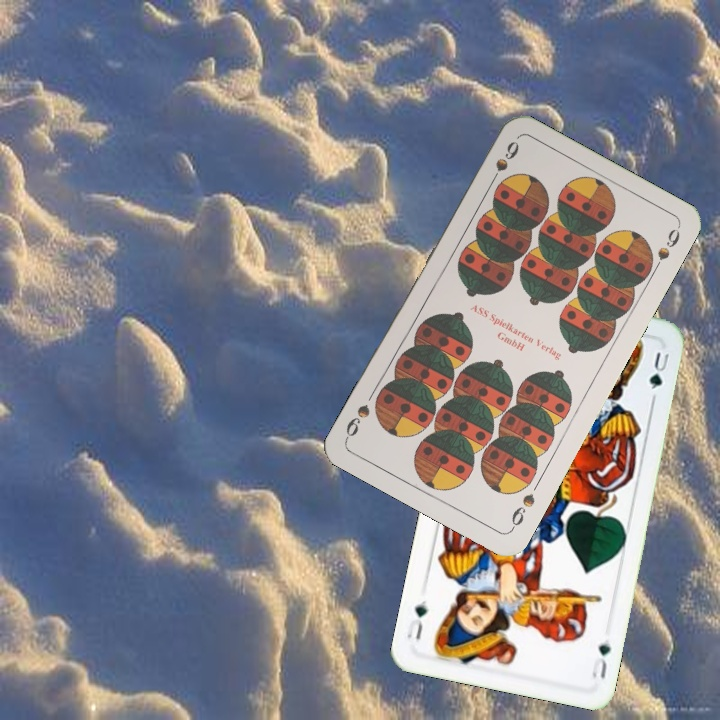GU: (588, 640, 613, 682)
S9: (484, 136, 522, 190), (506, 489, 538, 533)
